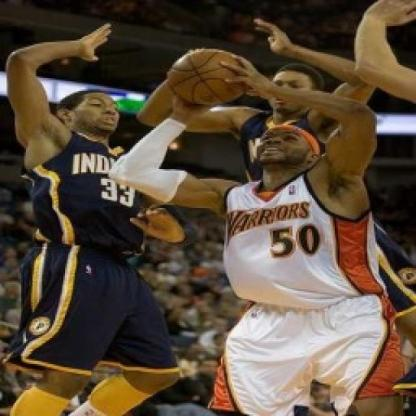basketball: (167, 44, 253, 109)
